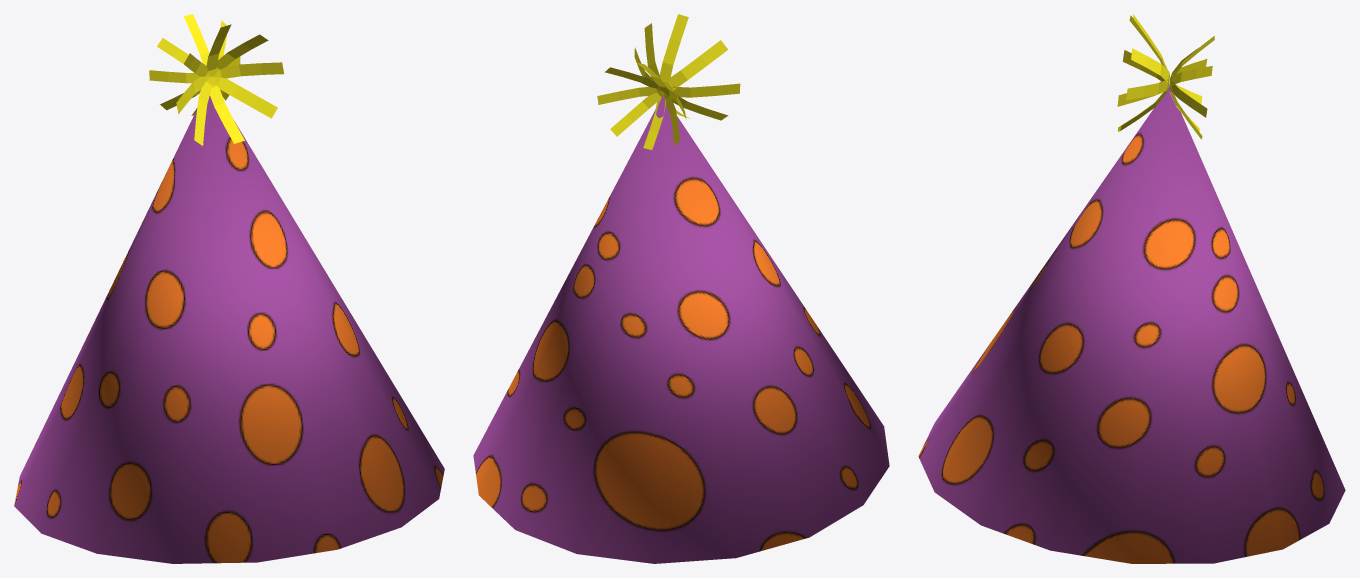
File: PartyHat.fbx
The picture shows the model from 3 angles, left to right: view 1: azimuth 30°, elevation 25°; view 2: azimuth 150°, elevation 25°; view 3: azimuth 270°, elevation 25°; orthographic projection. The views are drawn at different scales.
Visible parts, largest first — view 1: Hat; view 2: Hat; view 3: Hat.
Boxes of the visible parts, x1,y1,x2,y2 form: Hat: (14, 14, 444, 563); Hat: (473, 14, 889, 563); Hat: (918, 14, 1345, 563).
Size of the model in its own units: 50.79 by 61.8 by 50.6.
